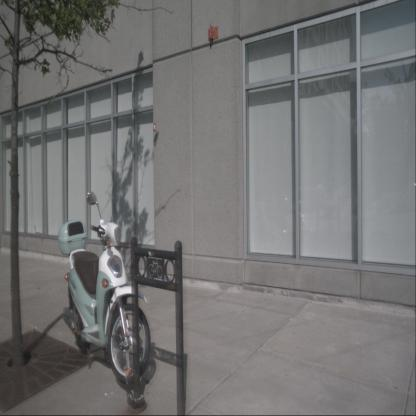vehicle-motorcycle: (58, 218, 151, 385)
